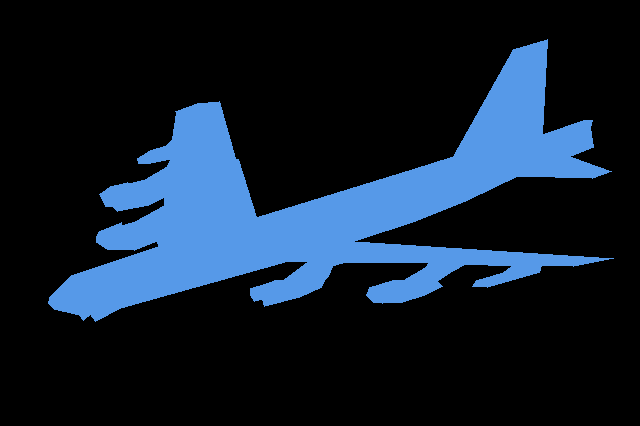Airplane: (48, 39, 613, 322)
